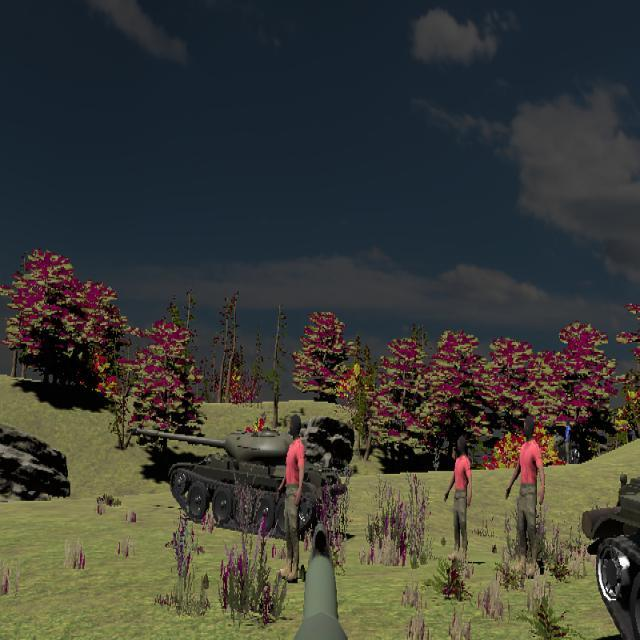Human: (504, 415, 545, 579), (277, 416, 304, 582), (445, 435, 472, 564)
Tank: (129, 424, 352, 538), (581, 427, 640, 640)
